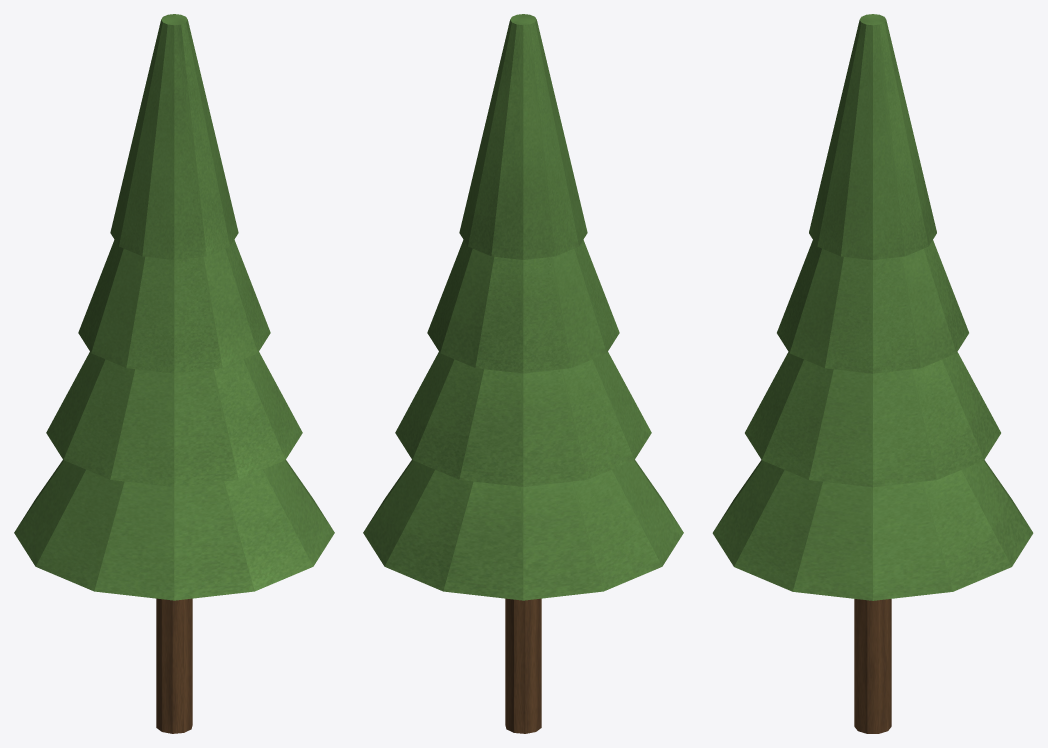
Rendered from tree_spruce.fbx.
3 renders of one model, left to right at view 1: azimuth 30°, elevation 25°; view 2: azimuth 150°, elevation 25°; view 3: azimuth 270°, elevation 25°, orthographic.
Parts seen in each view (by area): view 1: crown0, crown1, crown3, crown2, trunk; view 2: crown0, crown1, crown3, crown2, trunk; view 3: crown0, crown1, crown3, crown2, trunk.
Boxes of the visible parts, box(x1,y1,x2,y2) form: crown0: box(14, 460, 334, 600); crown1: box(46, 352, 302, 486); crown3: box(110, 14, 238, 259); crown2: box(78, 240, 270, 373); trunk: box(156, 598, 192, 733); crown0: box(363, 460, 683, 600); crown1: box(395, 352, 651, 486); crown3: box(459, 14, 587, 259); crown2: box(427, 240, 619, 373); trunk: box(505, 598, 541, 733); crown0: box(712, 460, 1033, 600); crown1: box(745, 352, 1000, 487); crown3: box(809, 14, 936, 259); crown2: box(777, 240, 968, 373); trunk: box(854, 599, 891, 733).
Bounding box in the file's own units: 480 × 1166 × 480.
